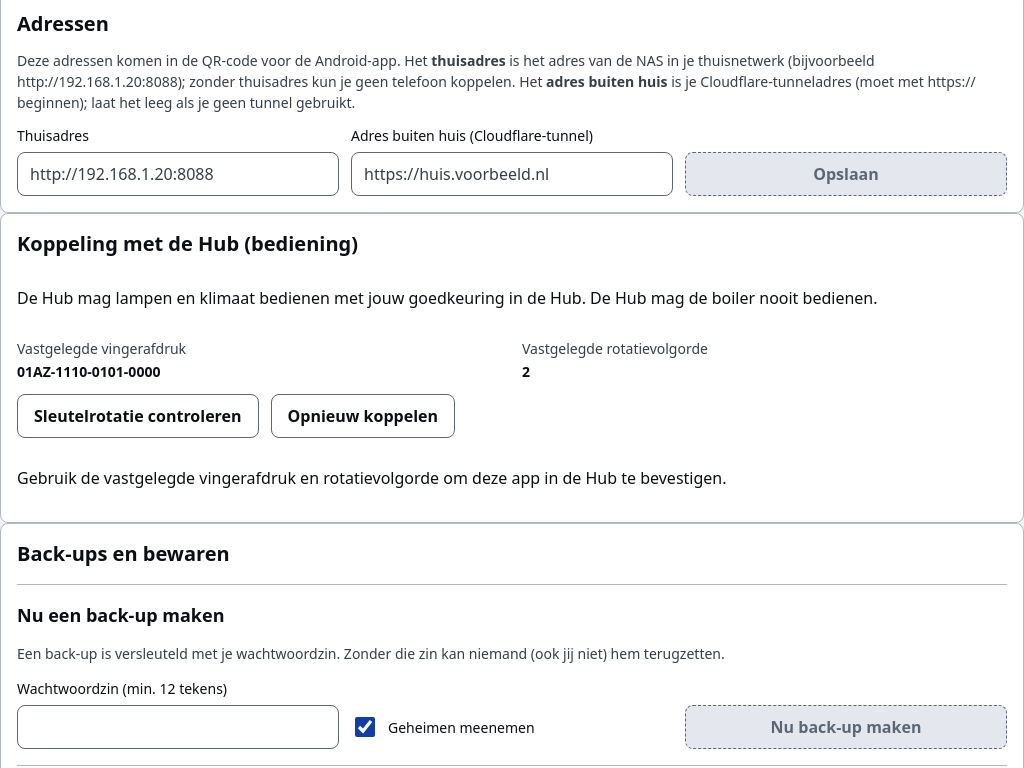
Scenario: wist invoer en pinstatus en ververst de rol bij HTTP 403 op POST
(page scrolled)
Click the button "Opnieuw koppelen" at (363, 416), box x1=270 y1=394 x2=455 y2=438
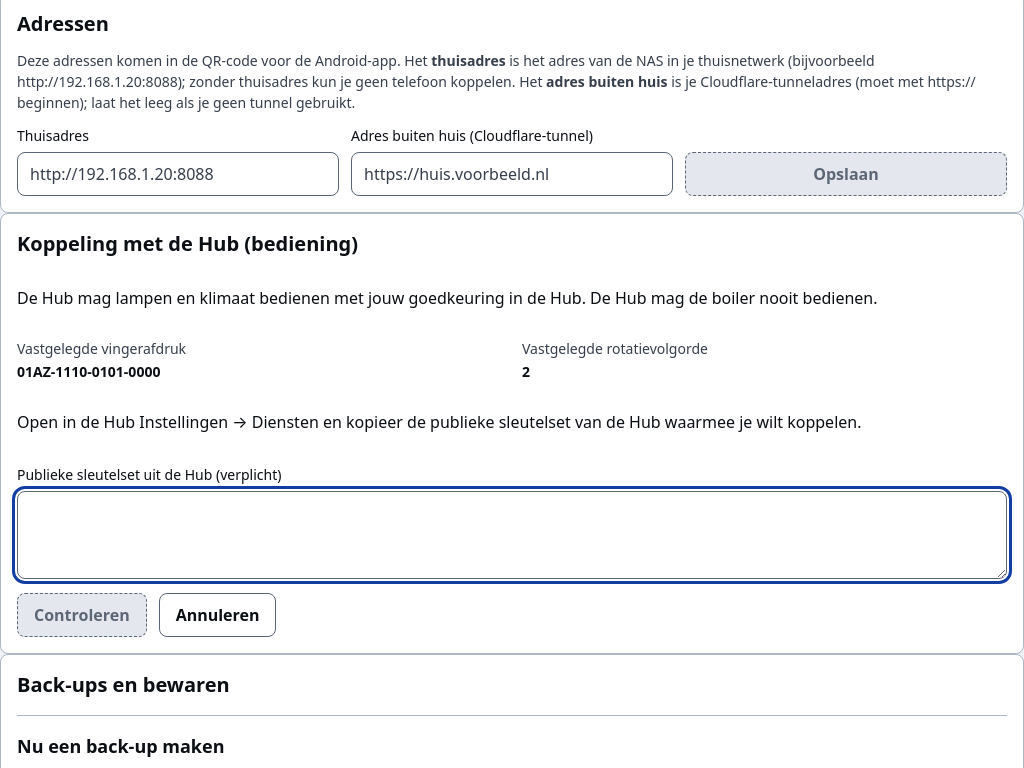
Type "geplakte proeftekst" into the text box labelled "Publieke sleutelset uit de Hub (verplicht)" at (512, 535), box x1=17 y1=491 x2=1007 y2=579
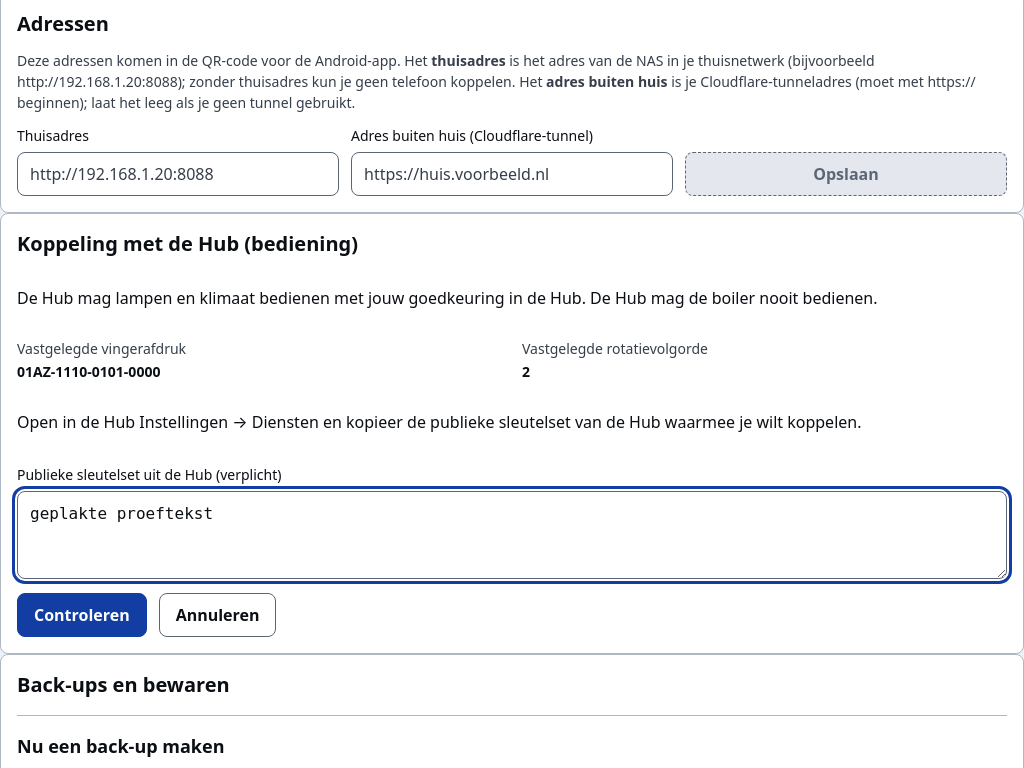
Click the button "Controleren" at (82, 615), box x1=17 y1=593 x2=147 y2=637
(page scrolled)
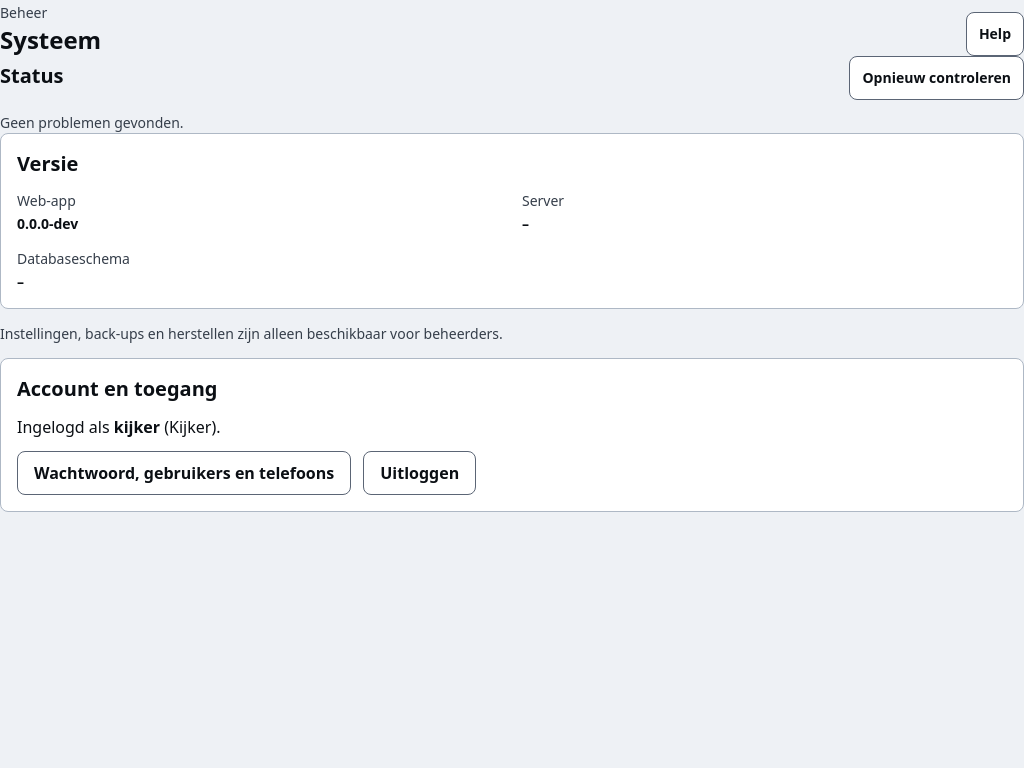
expect the heading "Koppeling met de Hub (bediening)" is gone: met
